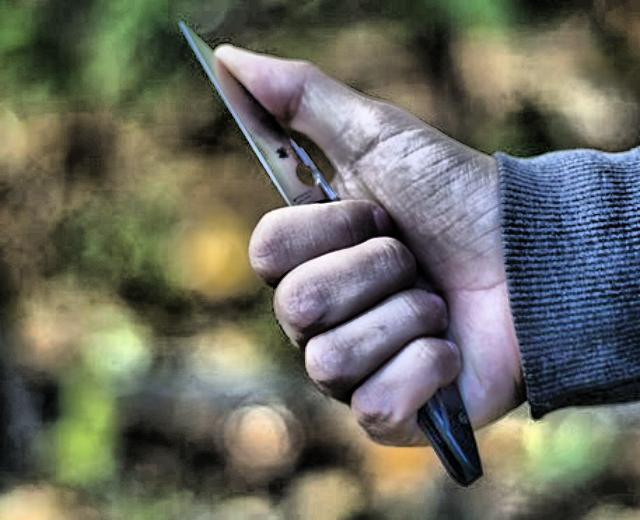knife: (164, 9, 452, 335)
